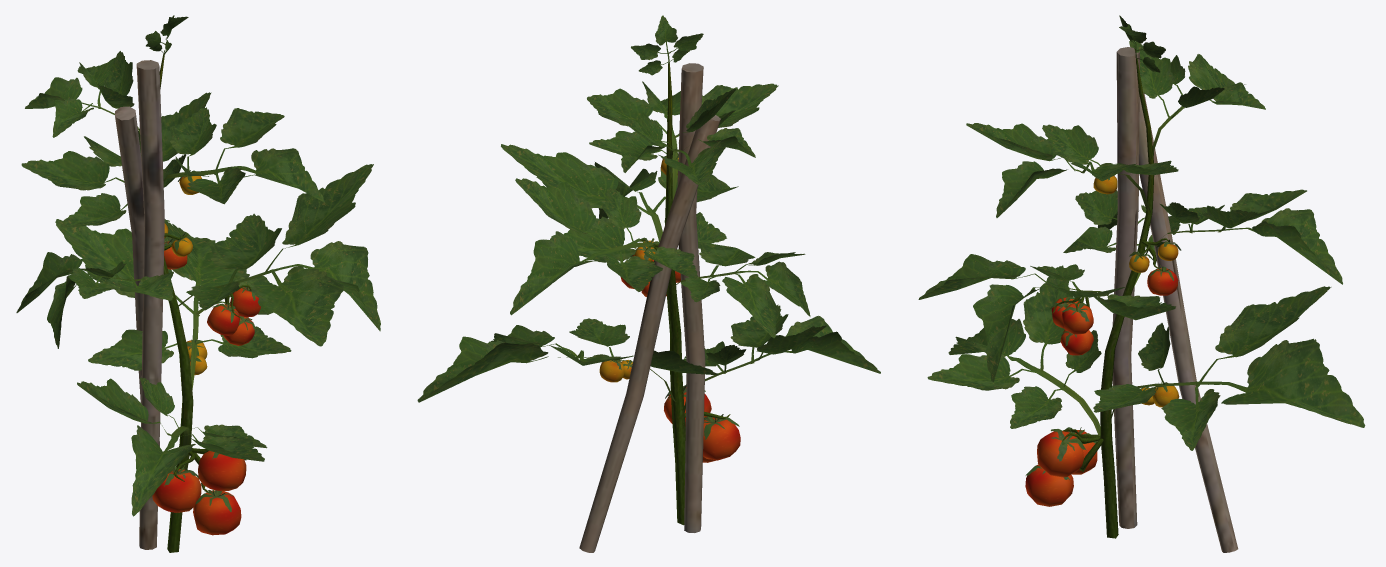
File: cargo_tomato_b.glb
The picture shows the model from 3 angles, left to right: view 1: azimuth 30°, elevation 25°; view 2: azimuth 150°, elevation 25°; view 3: azimuth 270°, elevation 25°; orthographic projection. The views are drawn at different scales.
Parts seen in each view (by area): view 1: KB3D_DMZ_Tomatoes_B_Main; view 2: KB3D_DMZ_Tomatoes_B_Main; view 3: KB3D_DMZ_Tomatoes_B_Main.
Boxes of the visible parts, x1,y1,x2,y2 form: KB3D_DMZ_Tomatoes_B_Main: (16,15,380,552); KB3D_DMZ_Tomatoes_B_Main: (417,15,880,552); KB3D_DMZ_Tomatoes_B_Main: (918,15,1365,552).
Size of the model in its own units: 0.569 by 0.8751 by 0.7.
Materials: 2 (2 with a texture image).
